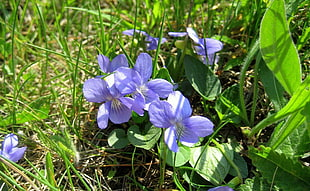violet: (143, 90, 222, 159), (79, 69, 140, 130), (116, 56, 169, 111)
